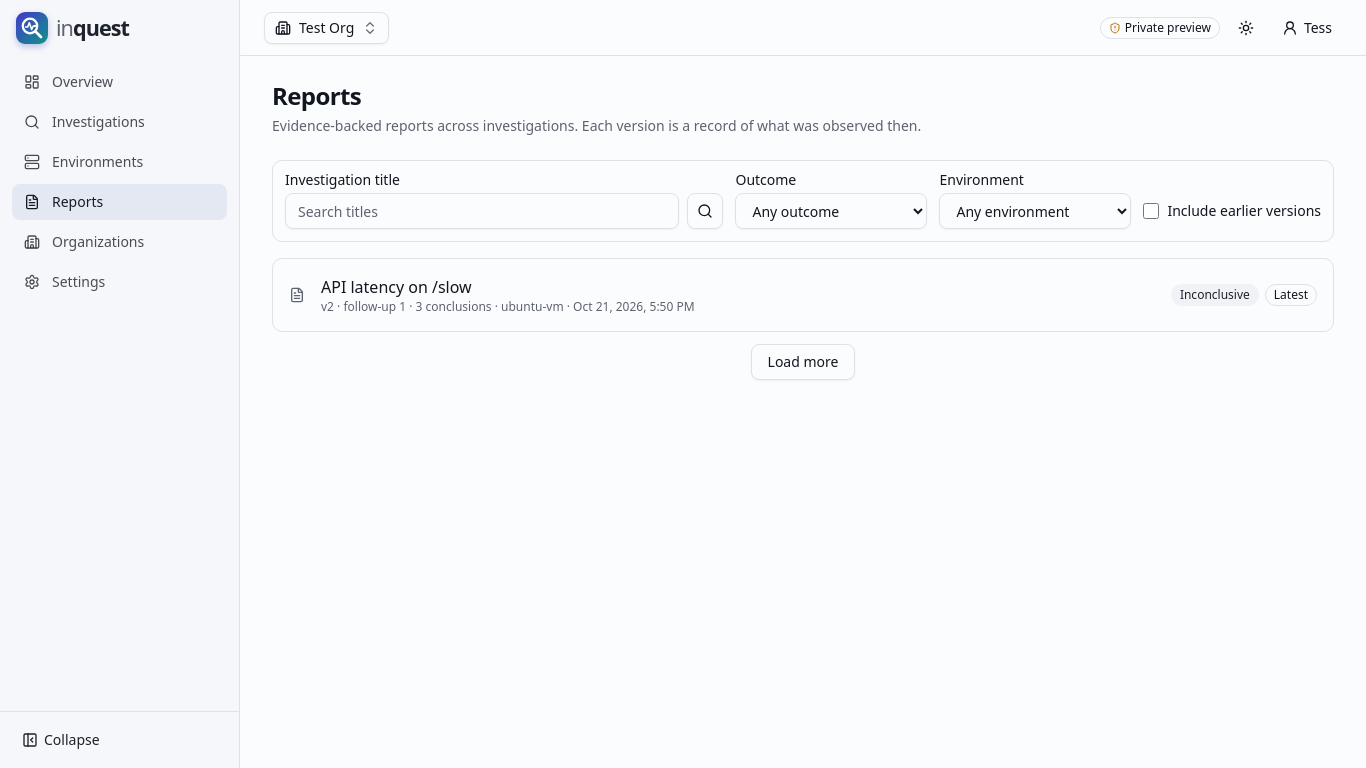
Test case: reports explorer › loads further pages without refetching earlier ones
Step 1. Click the button "Load more" → [803, 362], box [751,344,856,380]
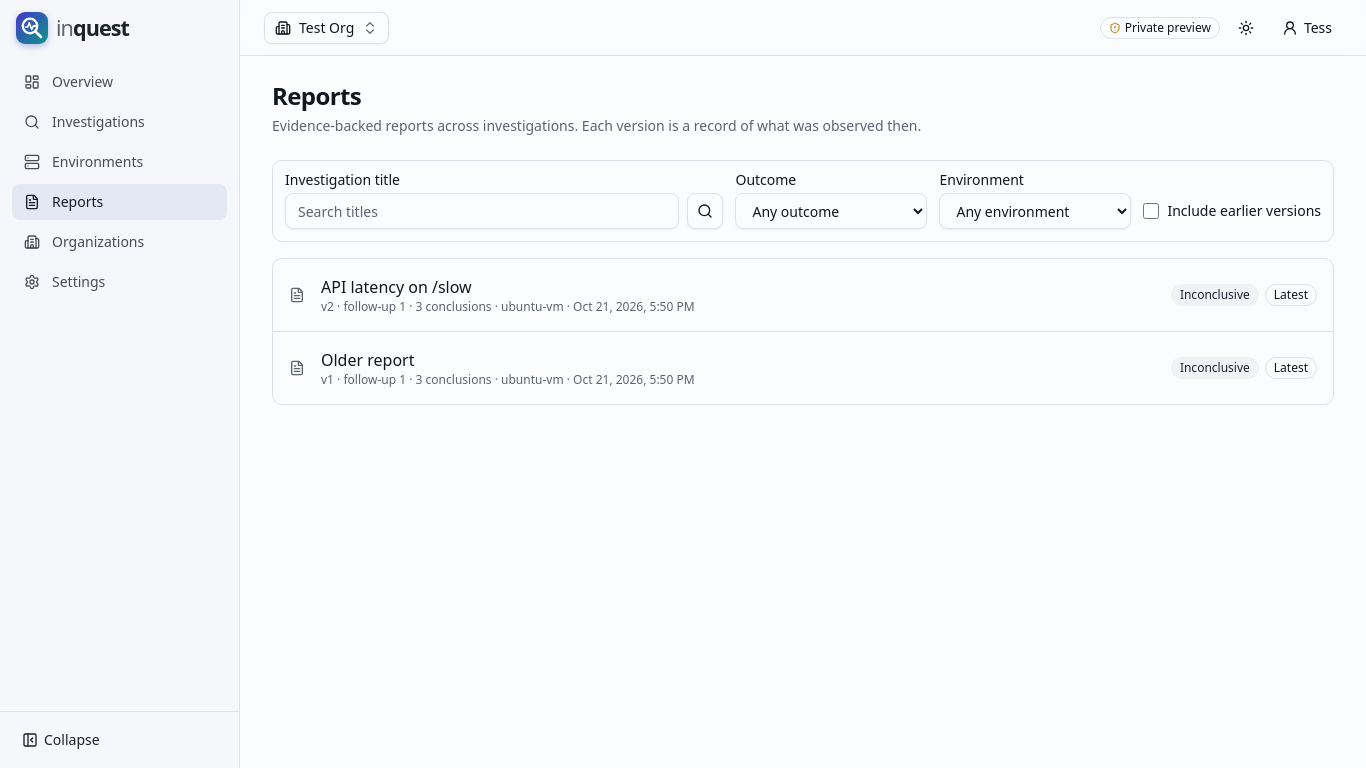
Expected: the text "Older report" is shown, [321,349,414,371]
